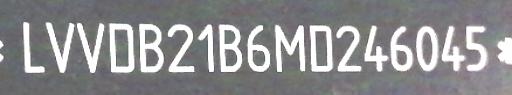letter: (272, 21, 306, 74), (74, 21, 108, 74), (106, 21, 138, 74), (44, 21, 76, 74), (166, 22, 198, 75), (136, 21, 166, 74), (332, 22, 362, 75), (462, 23, 492, 74), (216, 22, 244, 75), (244, 22, 272, 73), (362, 22, 390, 73), (307, 23, 335, 74), (439, 21, 465, 74), (388, 23, 414, 74), (22, 18, 46, 73), (414, 23, 438, 74), (196, 21, 216, 74)
